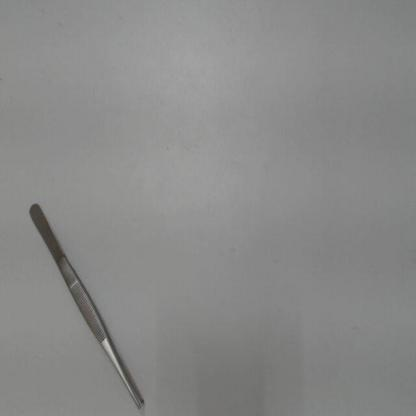Gillies Toothed Dissector: (21, 186, 148, 414)
